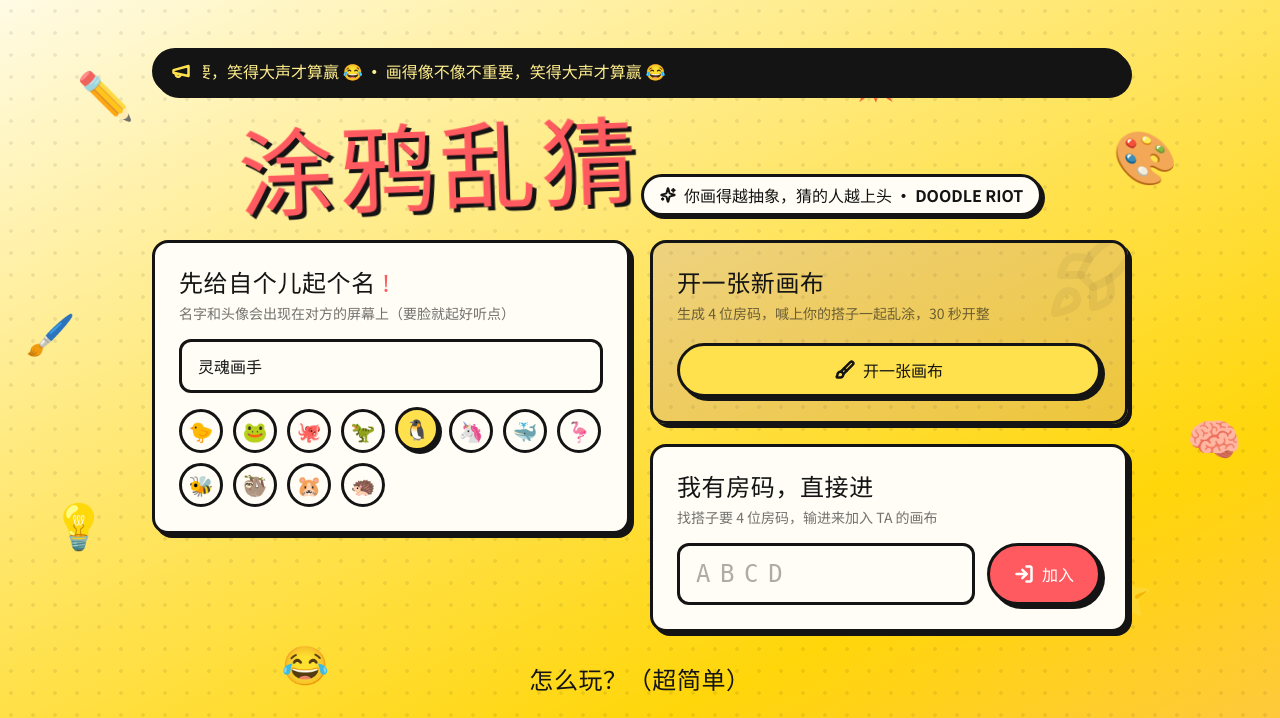
it: 大厅页 › 输错房码会给出沙雕报错
Type "ZZZZ" into the field named "房间码".
click(826, 574); type("ZZZZ")  # box [677,543,975,605]
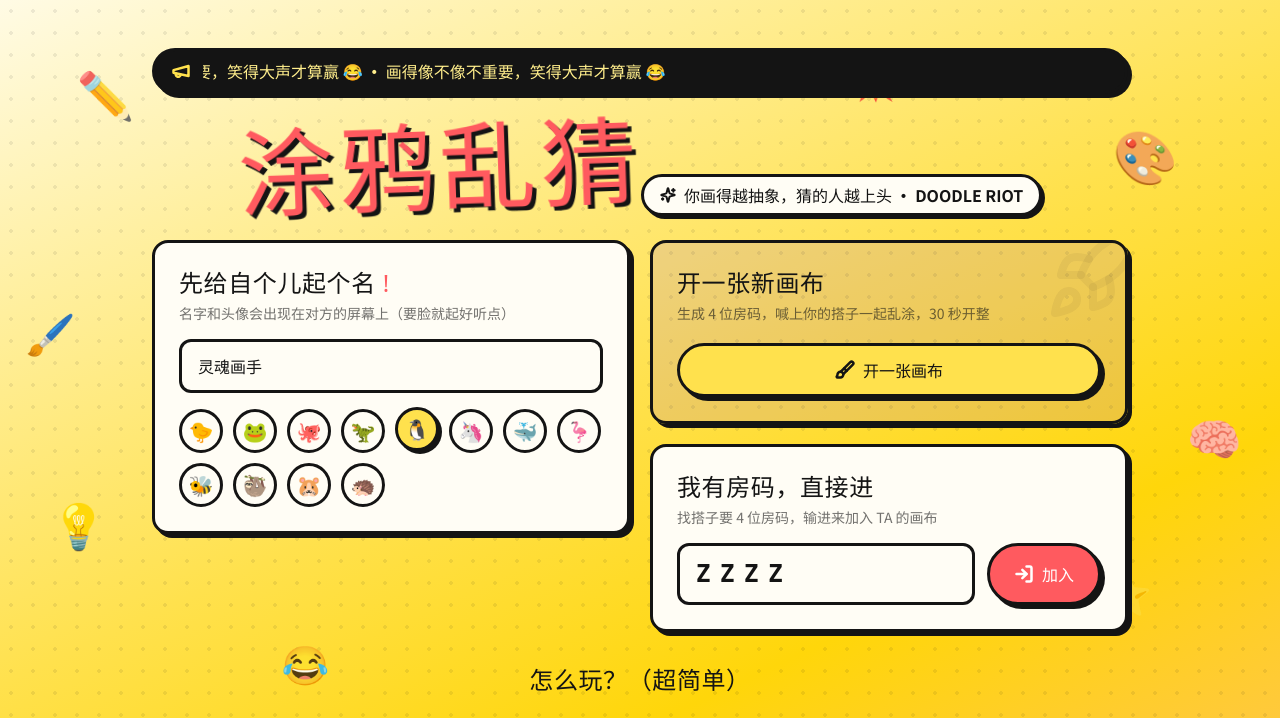
Click the button "加入".
click(1044, 574)  # box [987,543,1101,605]
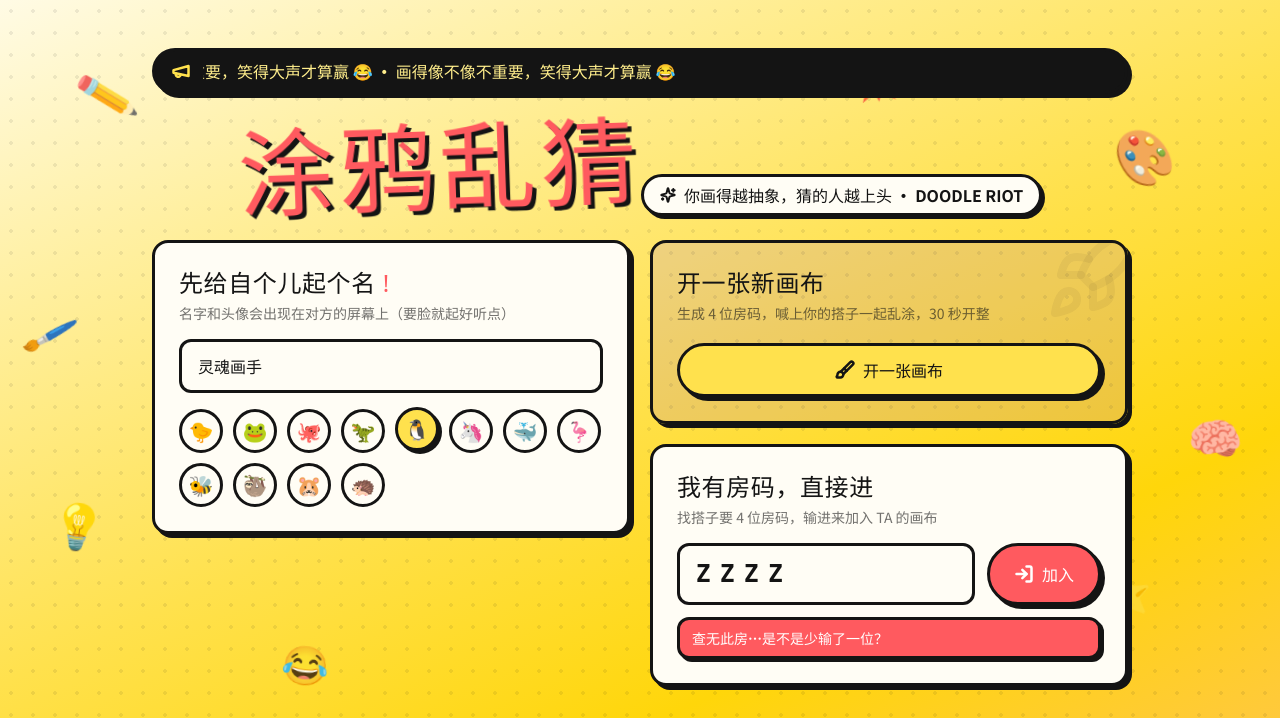
Expected: the text "查无此房…是不是少输了一位？" is shown, [677,617,1101,659]
